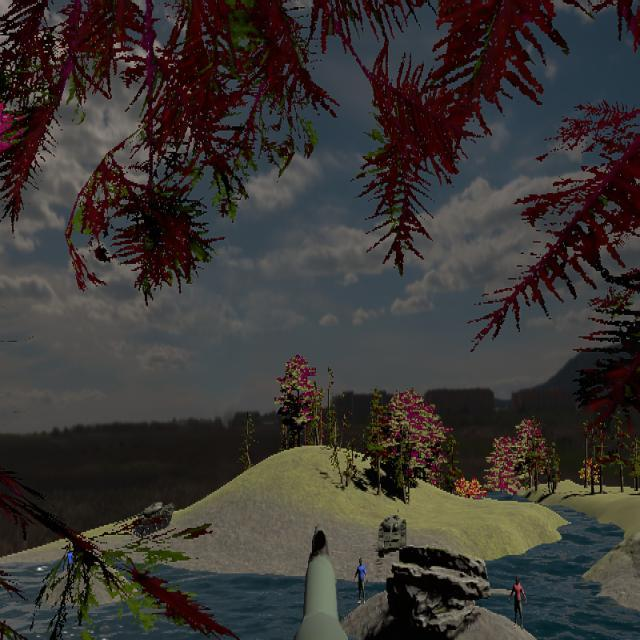Human: (508, 575, 526, 631), (353, 557, 368, 606)
Tank: (128, 500, 174, 538), (377, 512, 407, 557)
